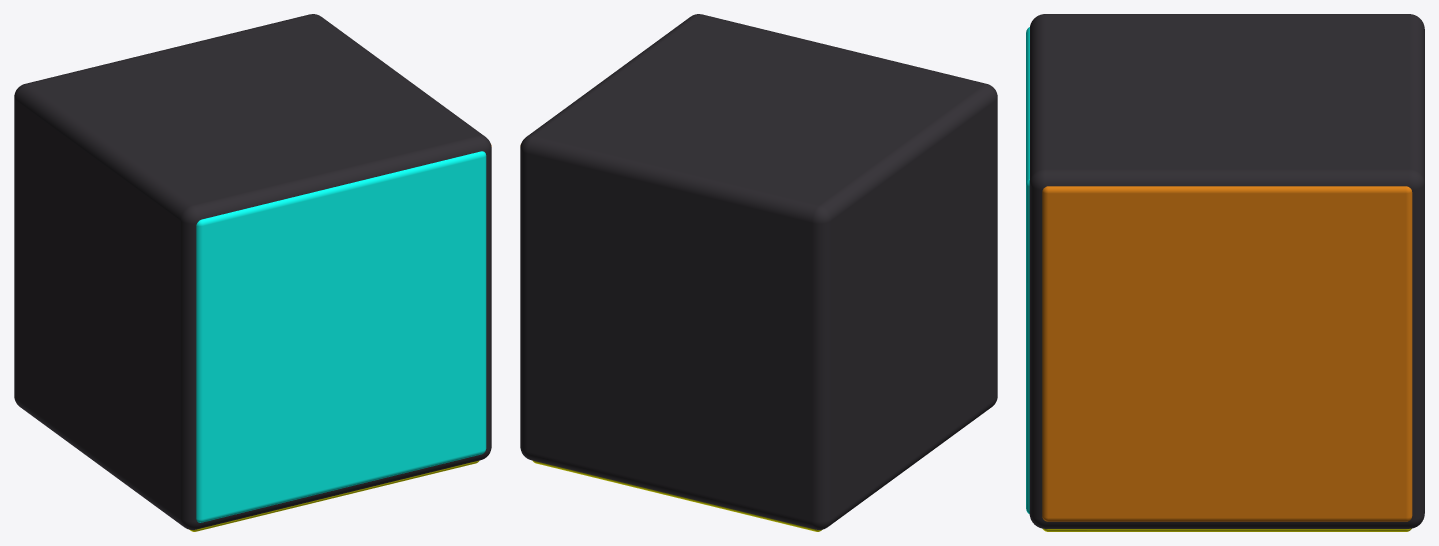
File: yobCorner.obj
3 renders of one model, left to right at view 1: azimuth 30°, elevation 25°; view 2: azimuth 150°, elevation 25°; view 3: azimuth 270°, elevation 25°, orthographic. The views are drawn at different scales.
Visible parts, largest first — view 1: 000_Base, 003_blue_(face), 002_yellow; view 2: 000_Base, 002_yellow; view 3: 001_orange, 000_Base, 003_blue_(face), 002_yellow.
Part boxes in pixels (<box>): 000_Base: <box>14,14,491,529</box>; 003_blue_(face): <box>196,151,486,522</box>; 002_yellow: <box>189,460,479,531</box>; 000_Base: <box>520,14,997,529</box>; 002_yellow: <box>532,460,822,531</box>; 001_orange: <box>1042,186,1412,521</box>; 000_Base: <box>1029,14,1424,528</box>; 003_blue_(face): <box>1026,27,1029,513</box>; 002_yellow: <box>1043,528,1411,531</box>.
Size of the model in its own units: 101 by 101 by 101.
